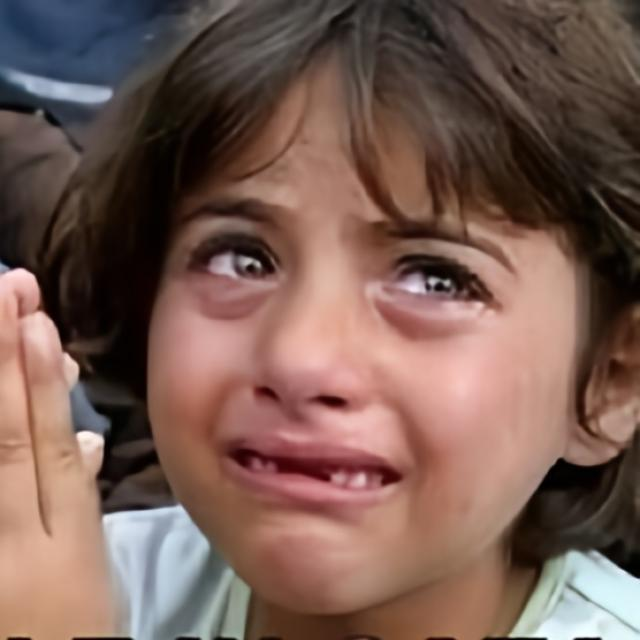sad: (144, 39, 564, 620)
